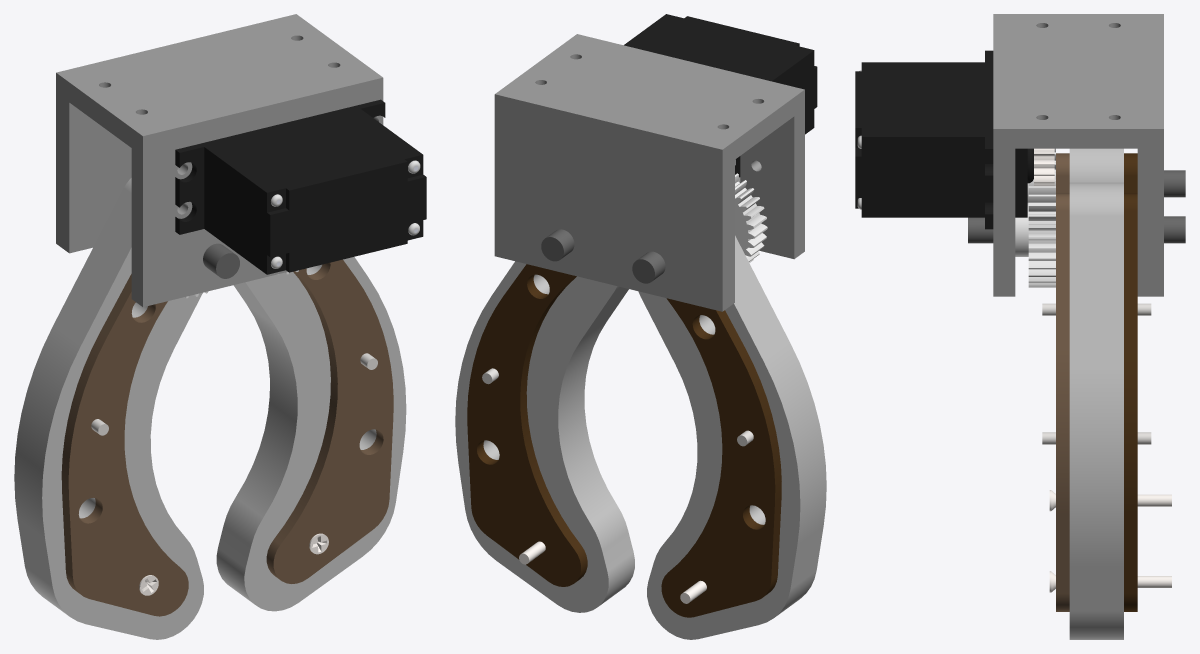
The model's file is finalclaw.glb.
3 views of the same model, side by side, from view 1: azimuth 30°, elevation 25°; view 2: azimuth 150°, elevation 25°; view 3: azimuth 270°, elevation 25° (orthographic). The views are drawn at different scales.
Visible parts, largest first — view 1: clamphingeforservomotor16p-1, Servomoteur-1, gripforclamp-1, gripforclamp-2, clamp_arm-1, clamp_arm-2, pinA-4; view 2: clamphingeforservomotor16p-1, gripforclamp-1, gripforclamp-2, clamp_arm-4, clamp_arm-3, Servomoteur-1, spur_gear_ai-18, pinA-4, pinA-3; view 3: clamphingeforservomotor16p-1, gripforclamp-2, Servomoteur-1, clamp_arm-2, clamp_arm-3, spur_gear_ai-17, gripforclamp-1, pinA-3, spur_gear_ai-20, pinA-4, flat_head_screw_ai-3, clamp_arm-1 (+2 smaller).
Part boxes in pixels (left/top/right/bottom): clamphingeforservomotor16p-1: left=56, top=14, right=383, bottom=306; Servomoteur-1: left=175, top=99, right=426, bottom=274; gripforclamp-1: left=14, top=178, right=203, bottom=639; gripforclamp-2: left=216, top=257, right=406, bottom=611; clamp_arm-1: left=61, top=274, right=188, bottom=616; clamp_arm-2: left=266, top=259, right=393, bottom=583; pinA-4: left=203, top=243, right=239, bottom=278; clamphingeforservomotor16p-1: left=494, top=34, right=804, bottom=311; gripforclamp-1: left=638, top=235, right=826, bottom=639; gripforclamp-2: left=455, top=261, right=634, bottom=612; clamp_arm-4: left=661, top=298, right=781, bottom=617; clamp_arm-3: left=467, top=264, right=587, bottom=586; Servomoteur-1: left=624, top=14, right=817, bottom=177; spur_gear_ai-18: left=735, top=173, right=767, bottom=262; pinA-4: left=632, top=251, right=665, bottom=283; pinA-3: left=541, top=229, right=574, bottom=261; clamphingeforservomotor16p-1: left=993, top=14, right=1163, bottom=296; gripforclamp-2: left=1069, top=182, right=1123, bottom=639; Servomoteur-1: left=855, top=50, right=1033, bottom=229; clamp_arm-2: left=1056, top=193, right=1069, bottom=611; clamp_arm-3: left=1124, top=193, right=1137, bottom=611; spur_gear_ai-17: left=1015, top=172, right=1055, bottom=287; gripforclamp-1: left=1069, top=148, right=1123, bottom=182; pinA-3: left=968, top=216, right=1185, bottom=243; spur_gear_ai-20: left=1034, top=148, right=1054, bottom=186; pinA-4: left=1164, top=170, right=1185, bottom=197; flat_head_screw_ai-3: left=1049, top=490, right=1171, bottom=511; clamp_arm-1: left=1056, top=153, right=1069, bottom=193.
Size of the model in its own units: 0.0962 by 0.1379 by 0.077.
